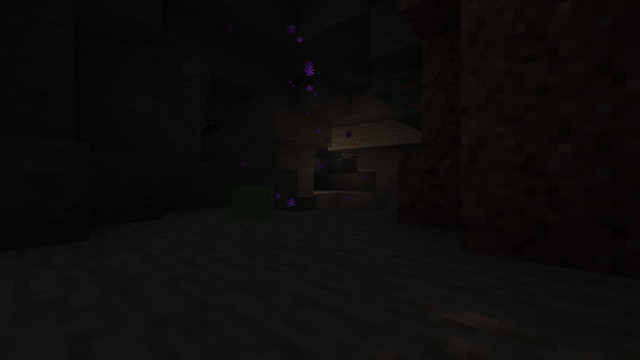slimes: (230, 185, 276, 221)
squelettes: (182, 58, 217, 162)
